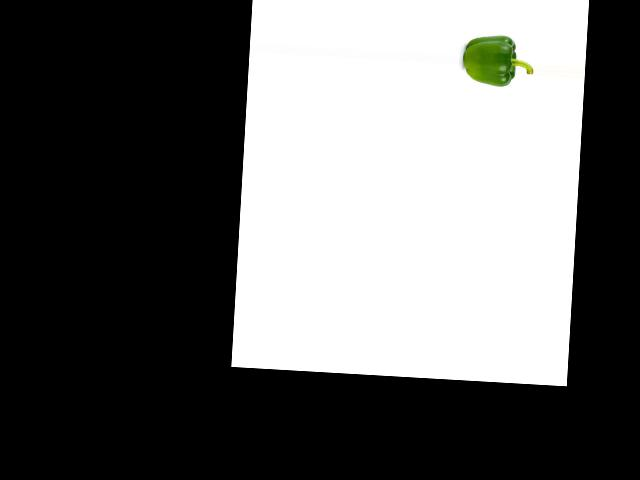bell_pepper: (461, 25, 534, 89)
